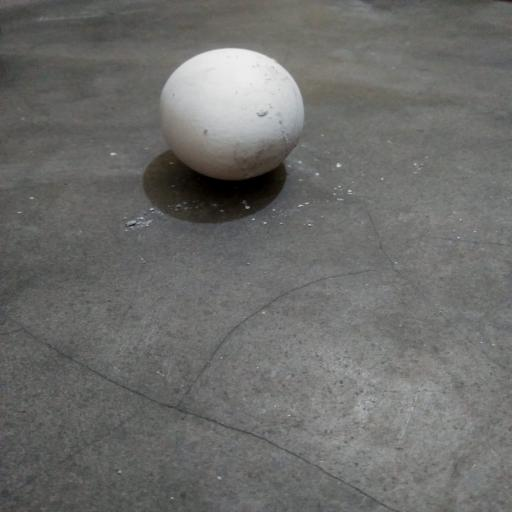telur: (156, 36, 304, 189)
